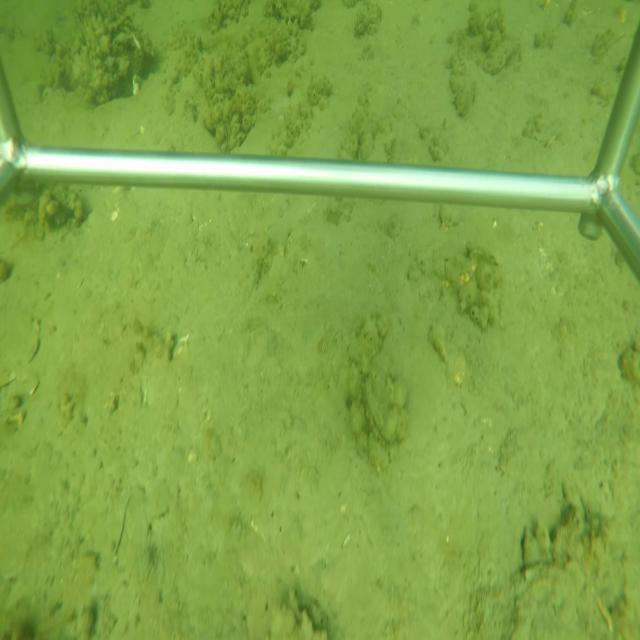Oyster-Closed: (362, 347, 402, 446), (482, 36, 517, 76)
